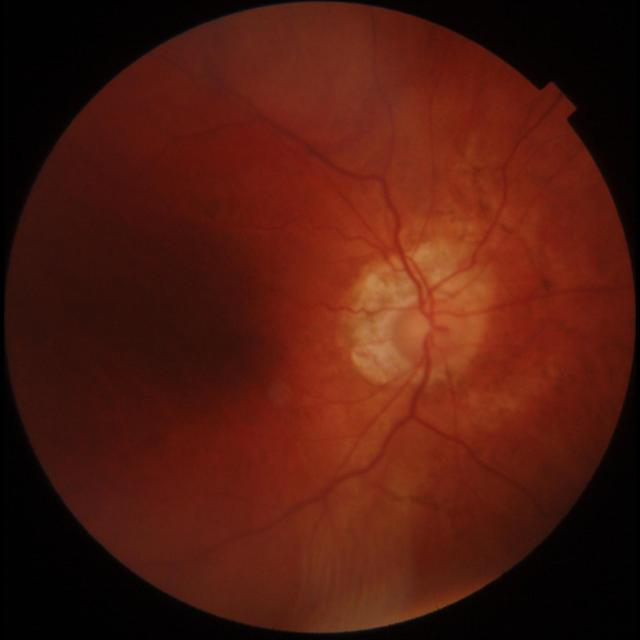OD: (393, 302, 470, 366)
